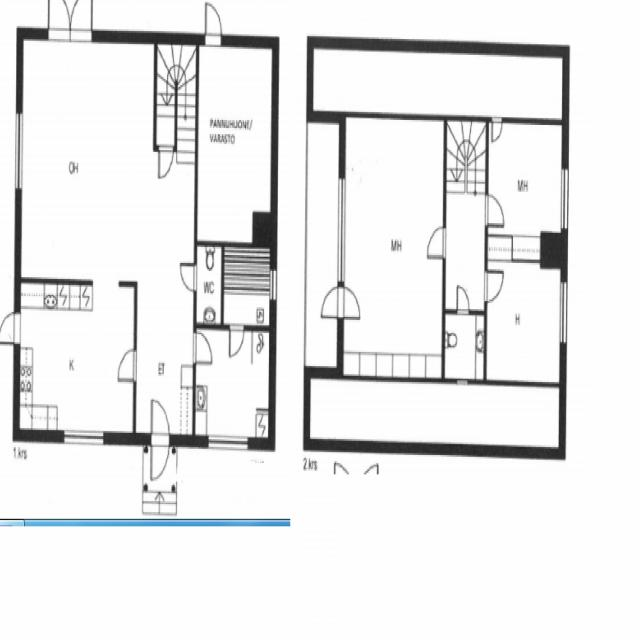door: (70, 0, 92, 51), (48, 0, 70, 51), (151, 397, 169, 445), (151, 433, 169, 480), (205, 7, 221, 51), (321, 287, 343, 318), (337, 287, 359, 318), (0, 312, 20, 343), (426, 227, 445, 258), (484, 198, 502, 229), (194, 332, 212, 362), (118, 349, 136, 379), (484, 271, 502, 301), (179, 264, 197, 292), (158, 145, 172, 180), (230, 324, 243, 356), (457, 286, 469, 315), (492, 110, 502, 133)
